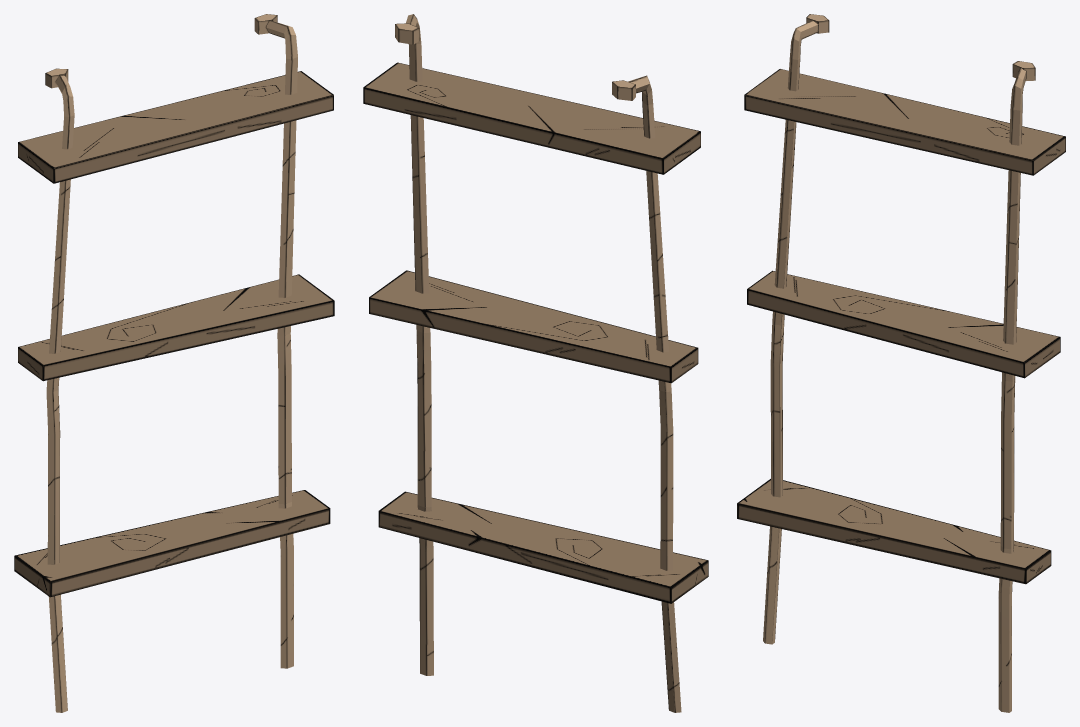
The model's file is echelle_construite.fbx.
3 views of the same model, side by side, from view 1: azimuth 30°, elevation 25°; view 2: azimuth 150°, elevation 25°; view 3: azimuth 330°, elevation 25° (orthographic). The views are drawn at different scales.
Parts seen in each view (by area): view 1: echelle_construite1; view 2: echelle_construite1; view 3: echelle_construite1.
Part boxes in pixels (bbox=[...]): echelle_construite1: bbox=[14, 14, 334, 712]; echelle_construite1: bbox=[363, 14, 708, 712]; echelle_construite1: bbox=[737, 14, 1065, 712].
Size of the model in its own units: 98.66 by 206 by 23.93.
